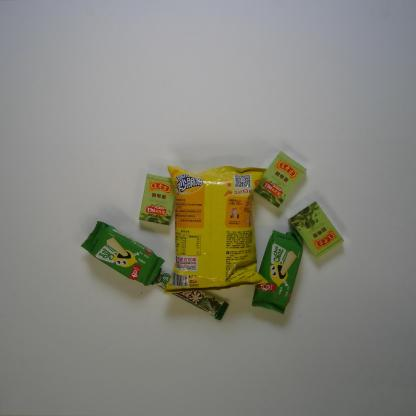Candy: (288, 200, 346, 260), (253, 150, 308, 209), (138, 172, 175, 226)
Chocolate: (154, 267, 230, 322)
Dessert: (80, 220, 165, 287), (252, 228, 304, 315)
Puffed Food: (162, 163, 269, 294)
